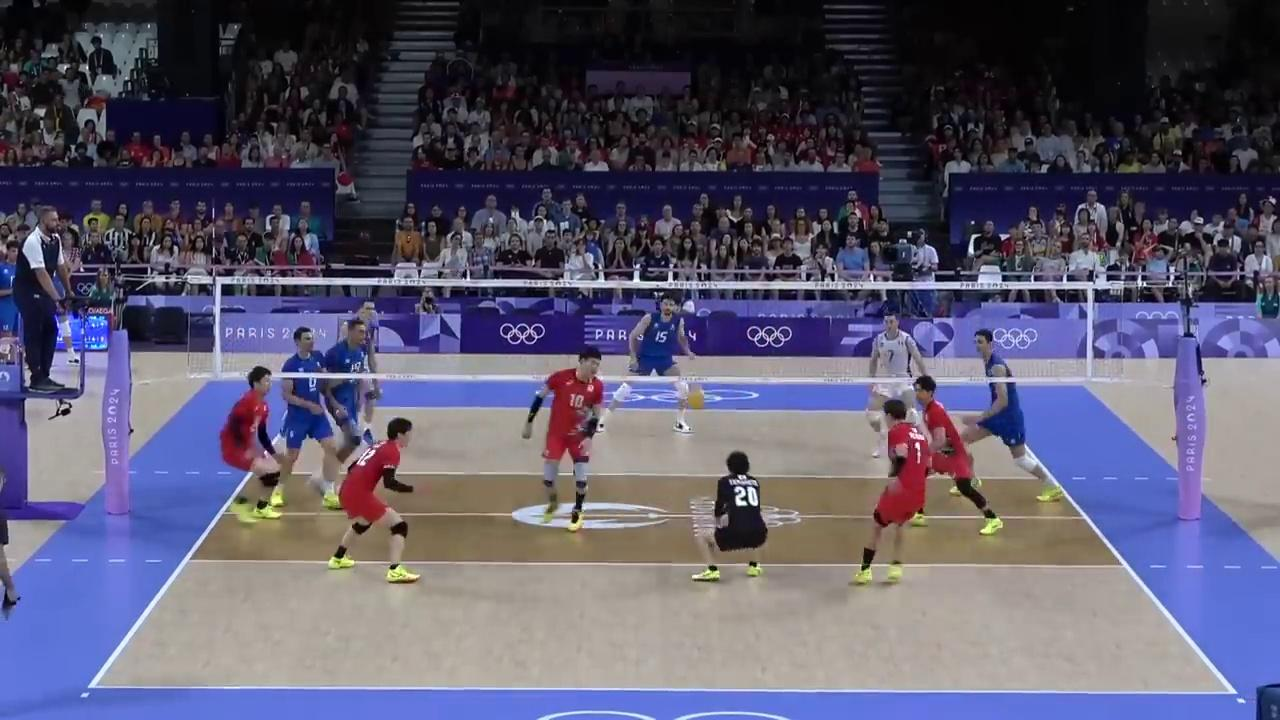ball: (688, 387, 706, 408)
